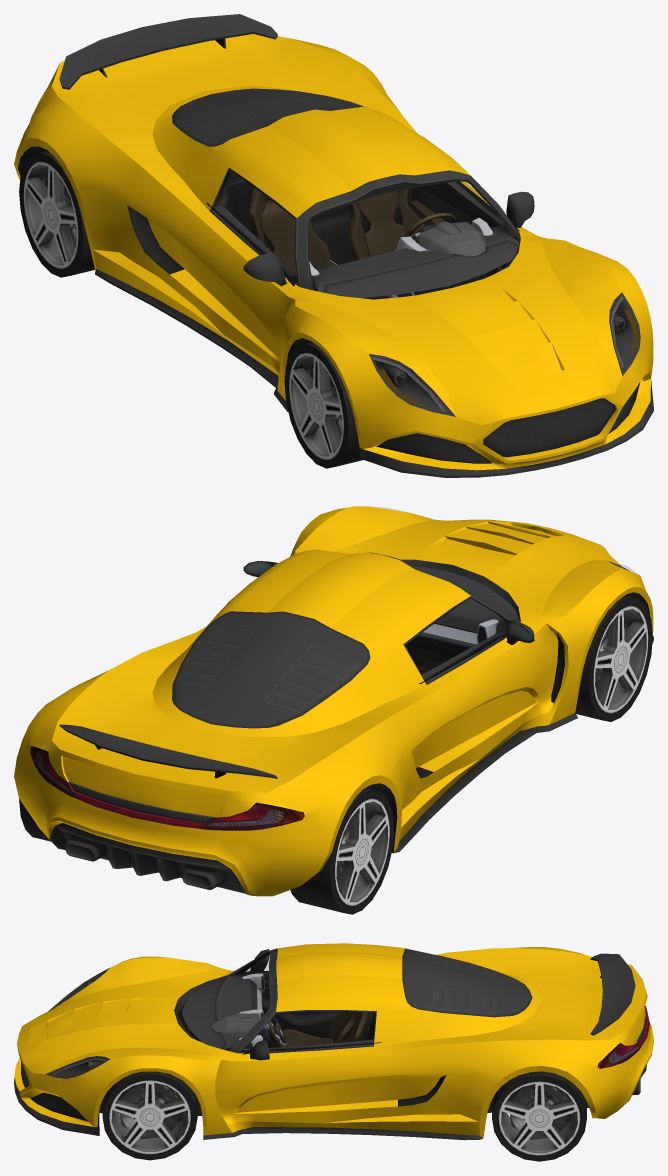
3 renders of one model, top to bottom at view 1: azimuth 30°, elevation 25°; view 2: azimuth 150°, elevation 25°; view 3: azimuth 270°, elevation 25°, orthographic. The views are drawn at different scales.
Parts seen in each view (by area): view 1: Body_50, Matte_50, Car_50_Interior_G, Wheel_R, Wheel_Back_R; view 2: Body_50, Matte_50, Wheel_Back_R, Wheel_R, Car_50_Interior_G, Taillights_50; view 3: Body_50, Matte_50, Car_50_Interior_G, Wheel_Back_L, Wheel_L, break_L, Taillights_50, Steering_wheel.
Part boxes in pixels (x1,y1,x2,y2): Body_50: (14,34,653,470); Matte_50: (17,14,653,477); Car_50_Interior_G: (206,171,519,299); Wheel_R: (284,342,362,468); Wheel_Back_R: (19,151,94,277); Body_50: (14,506,653,896); Matte_50: (49,552,653,895); Wheel_Back_R: (290,788,394,914); Wheel_R: (575,595,652,721); Car_50_Interior_G: (405,566,518,684); Taillights_50: (30,746,304,830); Body_50: (14,943,653,1138); Matte_50: (14,948,646,1140); Car_50_Interior_G: (182,971,381,1054); Wheel_Back_L: (492,1071,586,1161); Wheel_L: (102,1071,197,1160); break_L: (120,1083,182,1139); Taillights_50: (597,1005,649,1068); Steering_wheel: (268,1016,288,1047).
Size of the model in its own units: 197 by 117 by 463.
Materials: 6 (4 with a texture image).
